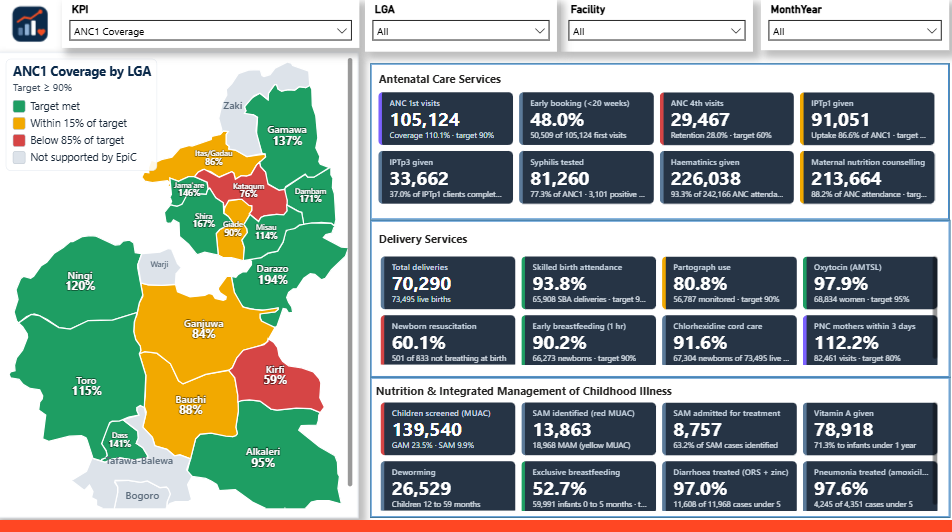

The page's visual inventory and layout, read from the dashboard file:
{"tool":"powerbi","page":{"name":"Key Indicators","canvas":[1280,720],"ordinal":3},"visuals":[{"type":"htmlContent443BE3AD55E043BF878BED274D3A6855","fields":{"content":["LGA Shapes.LGA Map SVG"]},"box":[0,77.1,484.5,619.4],"z":0},{"type":"slicer","fields":{"Values":["KPI Targets.KPI"]},"box":[90.3,6.6,394.5,65.1],"z":1000},{"type":"slicer","fields":{"Values":["Factility.Facility"]},"box":[753.2,6.6,255.1,70.4],"z":2000},{"type":"slicer","fields":{"Values":["Factility.LGA"]},"box":[492.8,6.6,255.1,70.4],"z":3000},{"type":"shape","box":[500,91.4,770,208.6],"z":4000},{"type":"shape","box":[0,698.4,1280,21.6],"z":4000,"group":"g1"},{"type":"shape","box":[499.6,300,770.8,209.2],"z":5000},{"type":"shape","box":[499.6,509.2,770.8,187.2],"z":6000},{"type":"textbox","box":[506.5,96.3,177.5,34.4],"z":7000},{"type":"textbox","box":[506.5,309.7,147.3,31.7],"z":8000},{"type":"textbox","box":[502.4,512,620,37.2],"z":9000},{"type":"htmlContent443BE3AD55E043BF878BED274D3A6855","fields":{"content":["KPI Targets.Cards ANC HTML"]},"box":[503.7,123.9,752.9,166.5],"z":10000},{"type":"htmlContent443BE3AD55E043BF878BED274D3A6855","fields":{"content":["KPI Targets.Cards Delivery HTML"]},"box":[506,342,754,156],"z":11000},{"type":"htmlContent443BE3AD55E043BF878BED274D3A6855","fields":{"content":["KPI Targets.Cards Nutrition IMCI HTML"]},"box":[506,535,754,156],"z":12000},{"type":"group","id":"g1","title":"Group 1","box":[0,698.4,1280,21.6],"z":14000},{"type":"slicer","fields":{"Values":["Calendar.MonthYear"]},"box":[1018.9,6.6,249.7,67.7],"z":15000},{"type":"htmlContent443BE3AD55E043BF878BED274D3A6855","fields":{"content":["KPI Targets.Brand Mark SVG"]},"box":[16,8,64,64],"z":15001}]}

Visuals, with their boxes in screenshot pixels (x1, y1, x2, y2), scaled from the page's 1280x720 canvas onto the 952x532 screenshot:
htmlContent443BE3AD55E043BF878BED274D3A6855 - LGA Shapes.LGA Map SVG: [left=0, top=57, right=360, bottom=515]
slicer - KPI Targets.KPI: [left=67, top=5, right=361, bottom=53]
slicer - Factility.Facility: [left=560, top=5, right=750, bottom=57]
slicer - Factility.LGA: [left=367, top=5, right=556, bottom=57]
shape: [left=372, top=68, right=945, bottom=222]
shape: [left=0, top=516, right=951, bottom=531]
shape: [left=372, top=222, right=945, bottom=376]
shape: [left=372, top=376, right=945, bottom=515]
textbox: [left=377, top=71, right=509, bottom=97]
textbox: [left=377, top=229, right=486, bottom=252]
textbox: [left=374, top=378, right=835, bottom=406]
htmlContent443BE3AD55E043BF878BED274D3A6855 - KPI Targets.Cards ANC HTML: [left=375, top=92, right=935, bottom=215]
htmlContent443BE3AD55E043BF878BED274D3A6855 - KPI Targets.Cards Delivery HTML: [left=376, top=253, right=937, bottom=368]
htmlContent443BE3AD55E043BF878BED274D3A6855 - KPI Targets.Cards Nutrition IMCI HTML: [left=376, top=395, right=937, bottom=511]
"Group 1" group: [left=0, top=516, right=951, bottom=531]
slicer - Calendar.MonthYear: [left=758, top=5, right=944, bottom=55]
htmlContent443BE3AD55E043BF878BED274D3A6855 - KPI Targets.Brand Mark SVG: [left=12, top=6, right=60, bottom=53]
